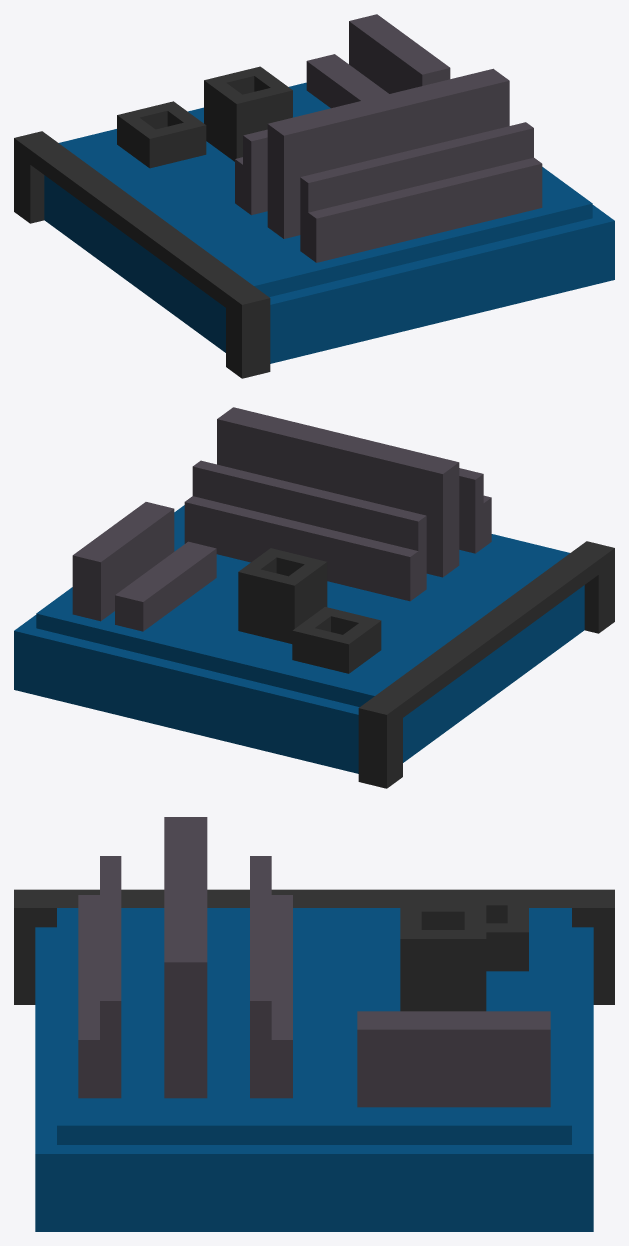
The model's file is _buildingInProgress.obj.
3 renders of one model, top to bottom at view 1: azimuth 30°, elevation 25°; view 2: azimuth 150°, elevation 25°; view 3: azimuth 270°, elevation 25°, orthographic. The views are drawn at different scales.
Size of the model in its own units: 2.7 by 1.2 by 2.8.
